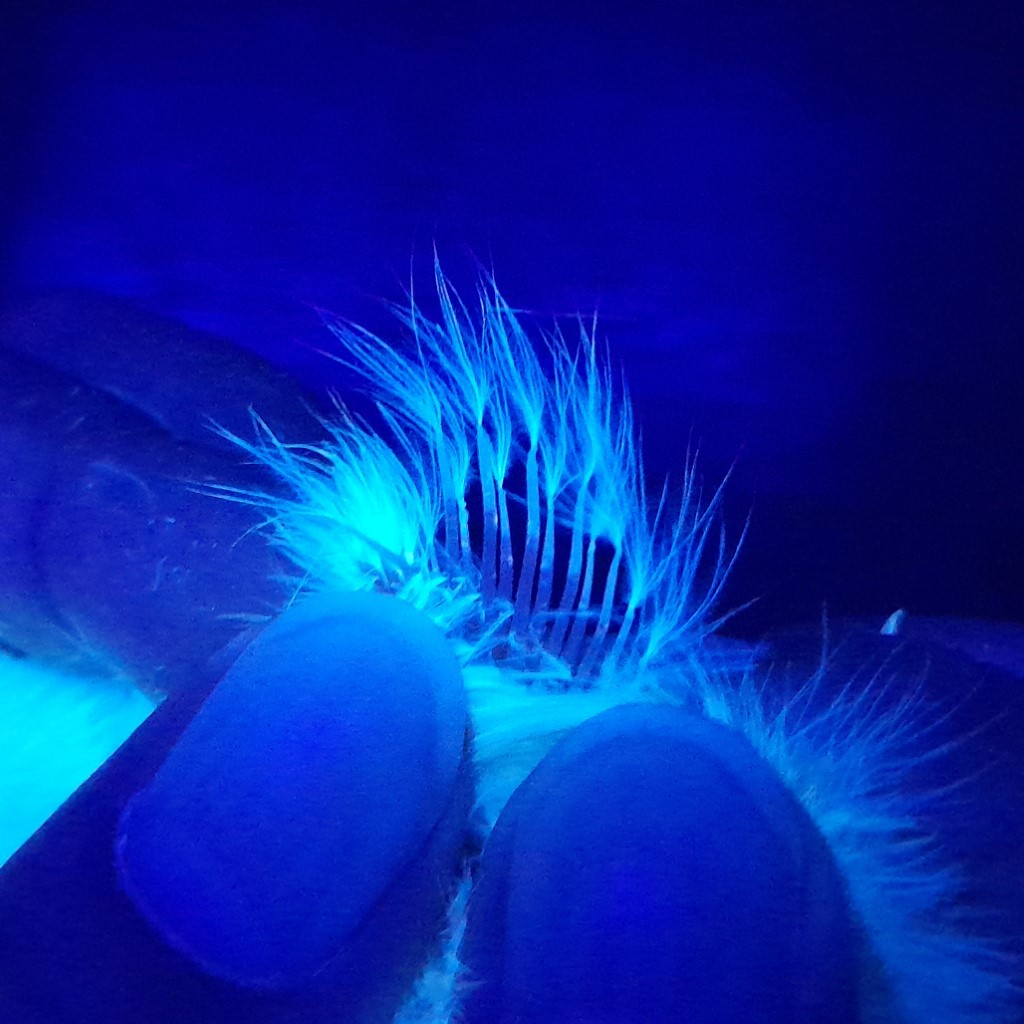male: (383, 417, 655, 731)
